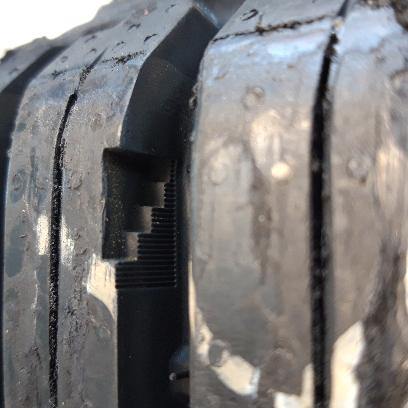temoin:100: (99, 144, 184, 293)
